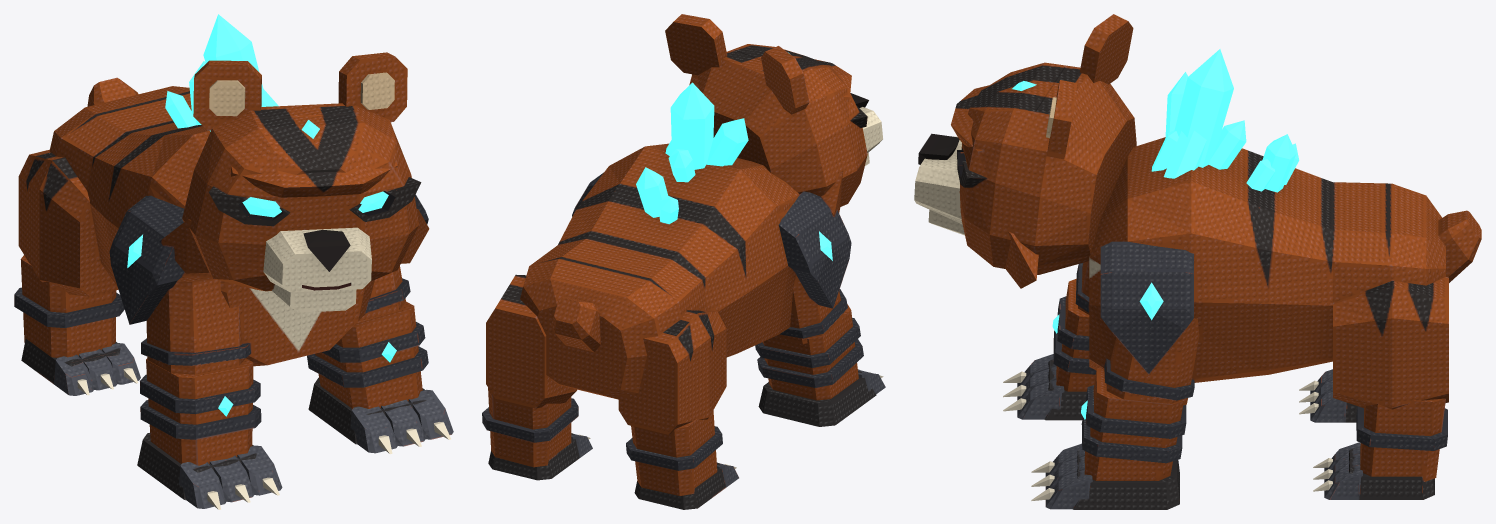
Rendered from studbear2.fbx.
3 renders of one model, left to right at view 1: azimuth 30°, elevation 25°; view 2: azimuth 150°, elevation 25°; view 3: azimuth 270°, elevation 25°, orthographic. The views are drawn at different scales.
Parts seen in each view (by area): view 1: StudBear2_Body, StudBear2_GLOW; view 2: StudBear2_Body, StudBear2_GLOW; view 3: StudBear2_Body, StudBear2_GLOW.
Part boxes in pixels (x1,y1,x2,y2): StudBear2_Body: (14, 52, 453, 509); StudBear2_GLOW: (127, 14, 396, 416); StudBear2_Body: (482, 14, 885, 509); StudBear2_GLOW: (636, 52, 832, 260); StudBear2_Body: (914, 14, 1481, 509); StudBear2_GLOW: (1012, 49, 1299, 419).
Bounding box in the file's own units: 2.22 × 3 × 3.93.
Materials: 2 (1 with a texture image).
